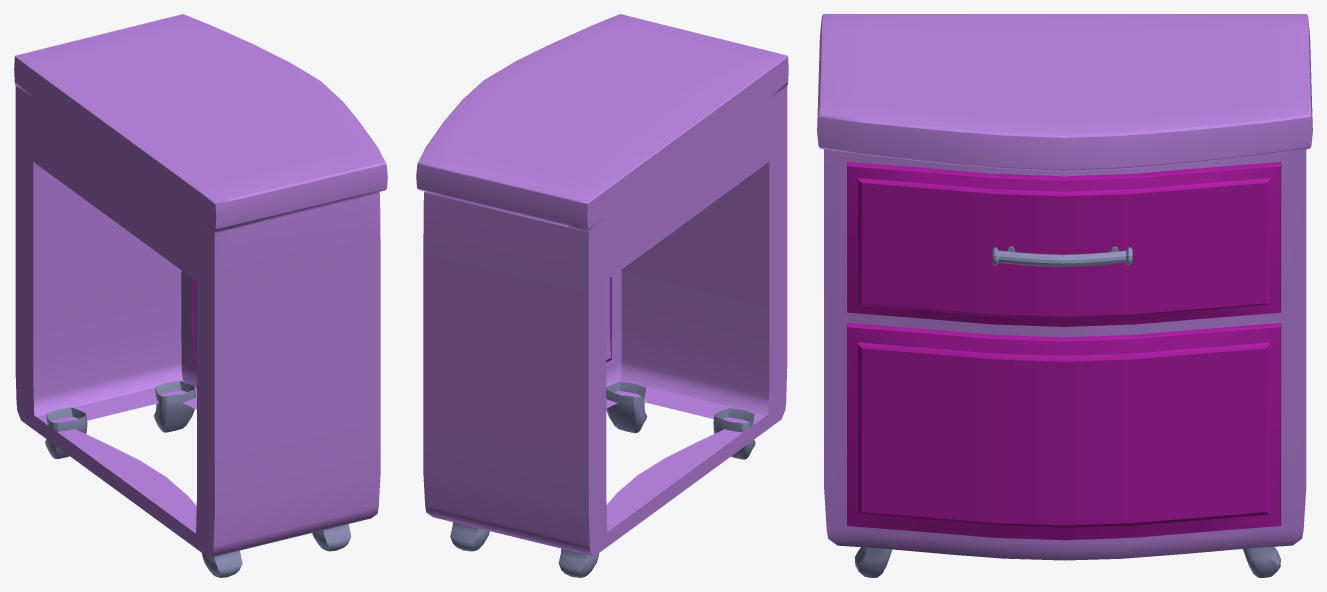
Rendered from OwnersSuite_Bedroom_Drawer.fbx.
3 views of the same model, side by side, from view 1: azimuth 30°, elevation 25°; view 2: azimuth 150°, elevation 25°; view 3: azimuth 270°, elevation 25° (orthographic). The views are drawn at different scales.
Parts seen in each view (by area): view 1: Bedroom_Drawer, Feet, Feet1, Feet2, Feet3; view 2: Bedroom_Drawer, Feet3, Feet2, Feet1, Feet; view 3: Bedroom_Drawer, Drawer1, Drawer, Handle, Feet, Feet3.
Part boxes in pixels (x1,y1,x2,y2): Bedroom_Drawer: [14, 14, 387, 557]; Feet: [154, 381, 195, 432]; Feet1: [45, 407, 87, 459]; Feet2: [201, 550, 242, 577]; Feet3: [312, 524, 351, 551]; Bedroom_Drawer: [416, 14, 788, 556]; Feet3: [606, 381, 646, 433]; Feet2: [713, 408, 755, 459]; Feet1: [558, 548, 599, 577]; Feet: [450, 522, 489, 551]; Bedroom_Drawer: [817, 14, 1312, 560]; Drawer1: [847, 323, 1281, 540]; Drawer: [847, 162, 1281, 326]; Handle: [992, 246, 1132, 266]; Feet: [1243, 546, 1280, 577]; Feet3: [854, 547, 892, 577].
Bounding box in the file's own units: 52.12 × 90.26 × 85.03.
